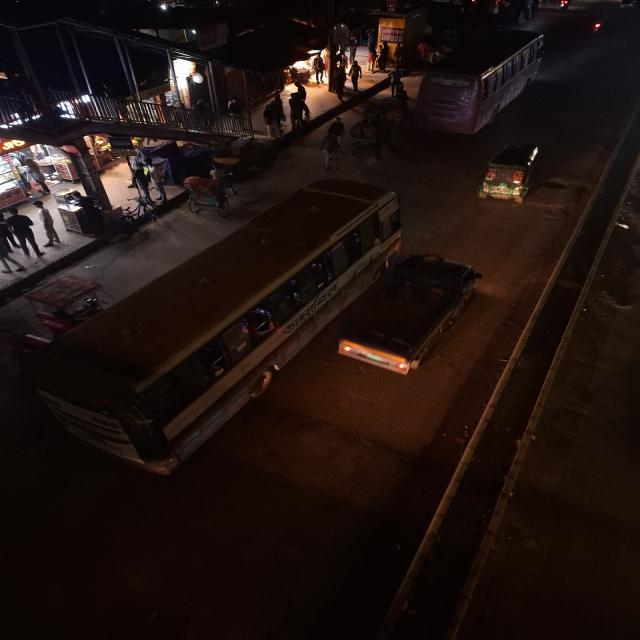bus: (12, 178, 412, 480), (413, 26, 548, 136)
cng: (472, 141, 544, 206)
motorcycle: (587, 3, 614, 40), (555, 0, 574, 11)
pedestrian: (261, 96, 289, 138), (317, 132, 345, 168), (328, 63, 348, 99), (346, 61, 364, 89), (314, 58, 328, 84)
pickup_van: (334, 254, 491, 377)
rickshaw: (19, 275, 108, 349), (178, 172, 239, 216), (345, 120, 386, 163)
